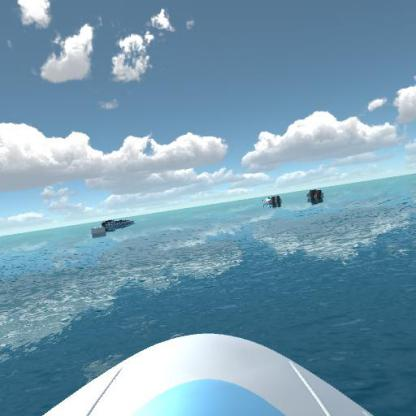usv1: (98, 212, 136, 232), (256, 193, 287, 206)
usv3: (305, 185, 324, 205)
